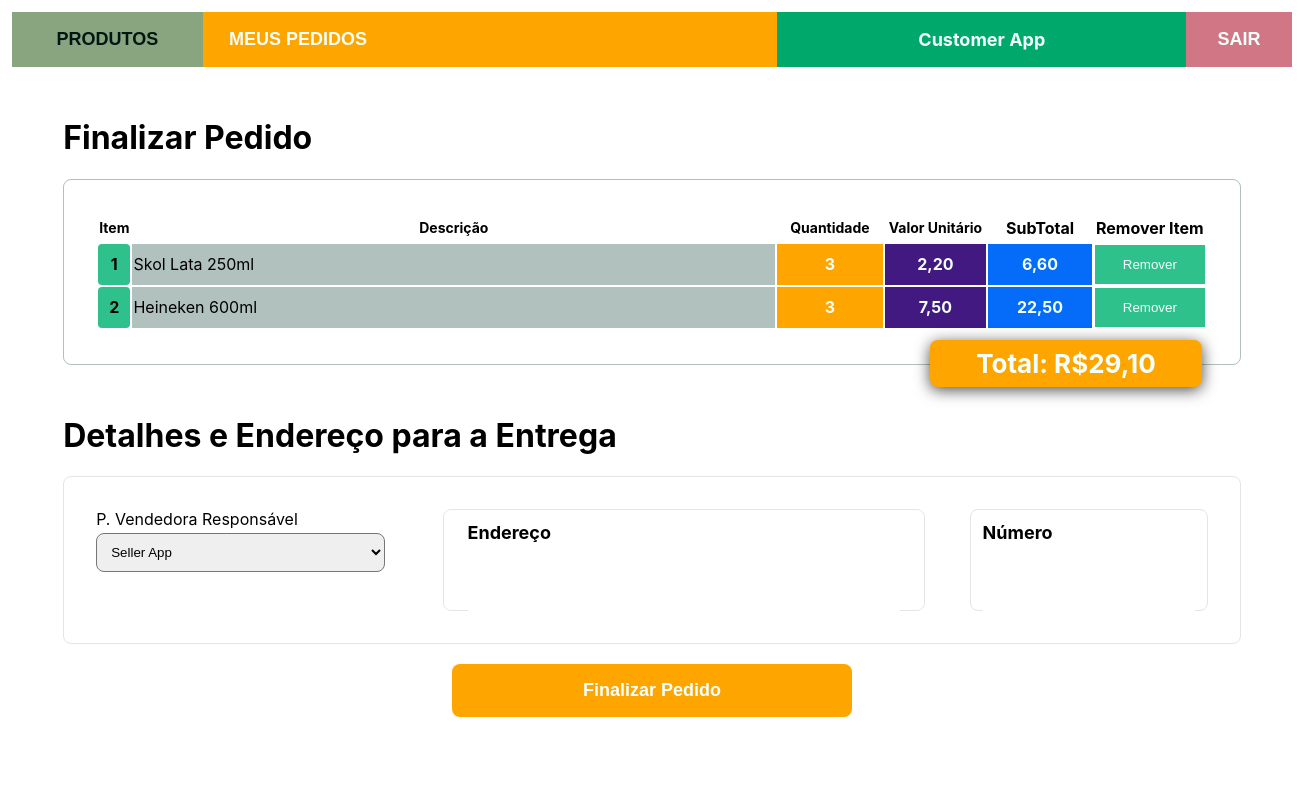
Test case: Testa remover um produto do carrinho › Verifica se produto é excluído da tela
Click the button "Remover" in the row of "Skol Lata 250ml" at (1150, 264), box [1095,245,1205,284]
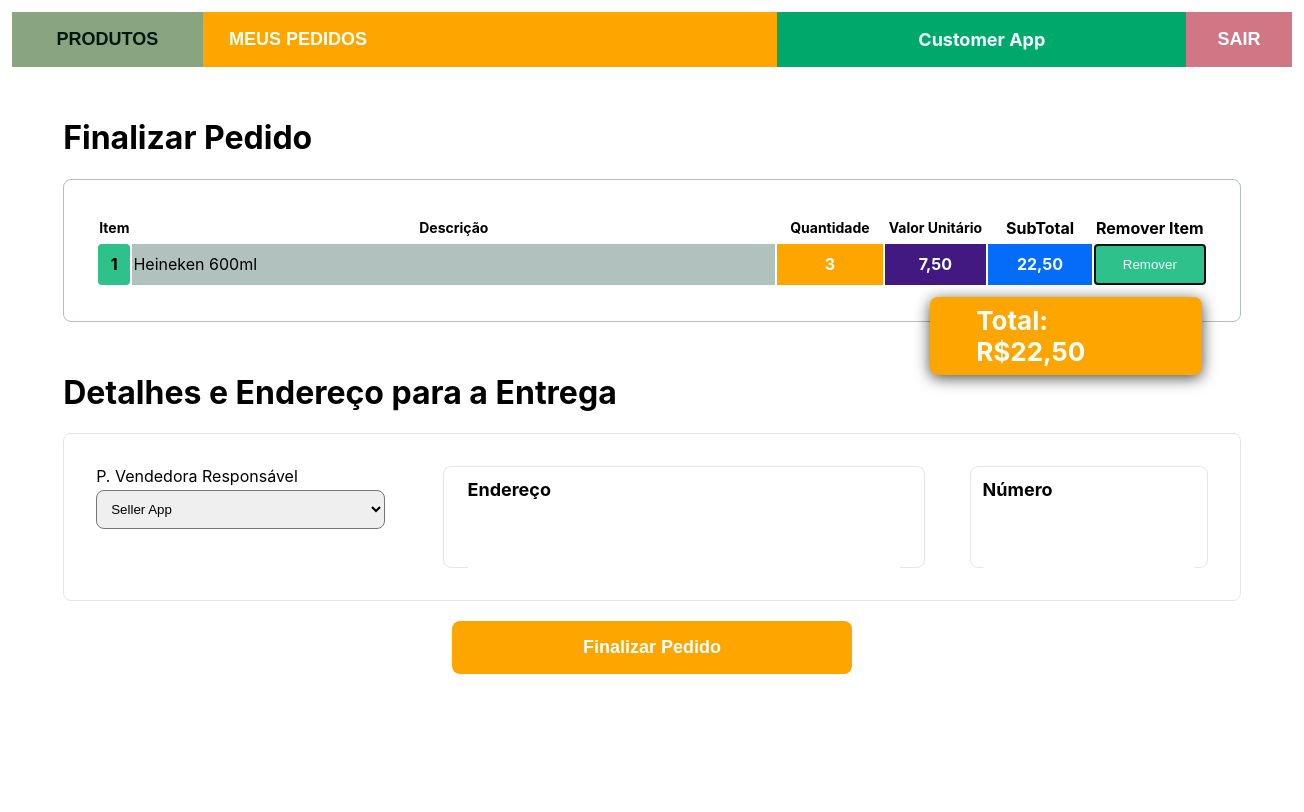
Check: the number of buttons "Remover" is 1, box [1095,245,1205,284]
